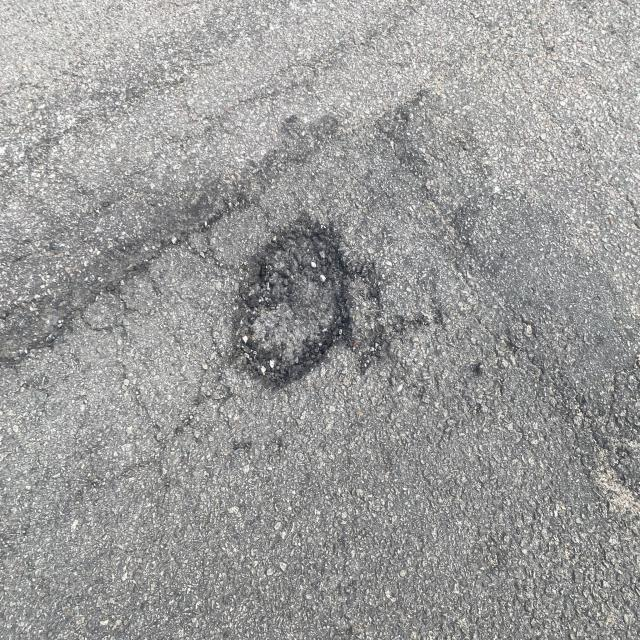Pothole: (210, 187, 376, 426)
